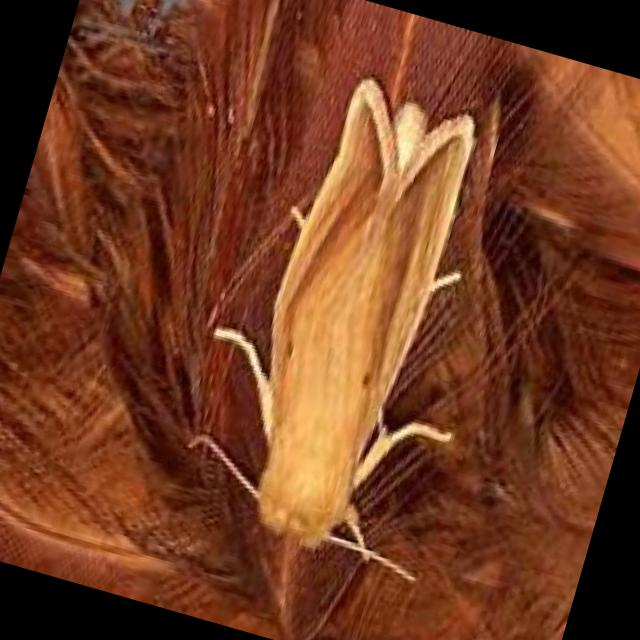stem-borer: (208, 63, 492, 565)
